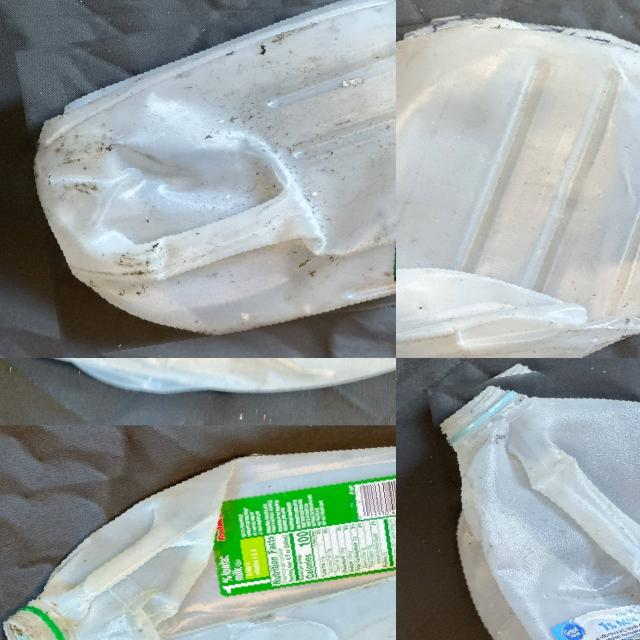milk-jug: (25, 0, 396, 339), (396, 0, 640, 358), (0, 432, 396, 640), (442, 358, 640, 640)
